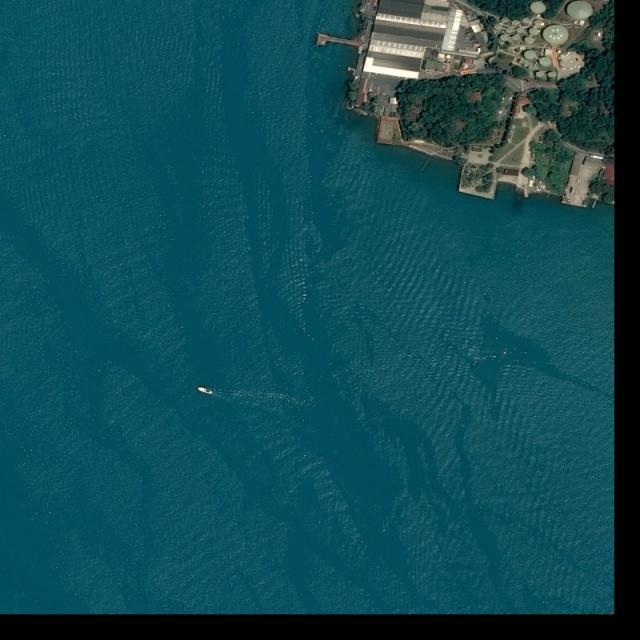ship: (197, 386, 214, 395)
